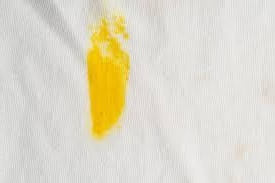mustard: (81, 18, 136, 136)
